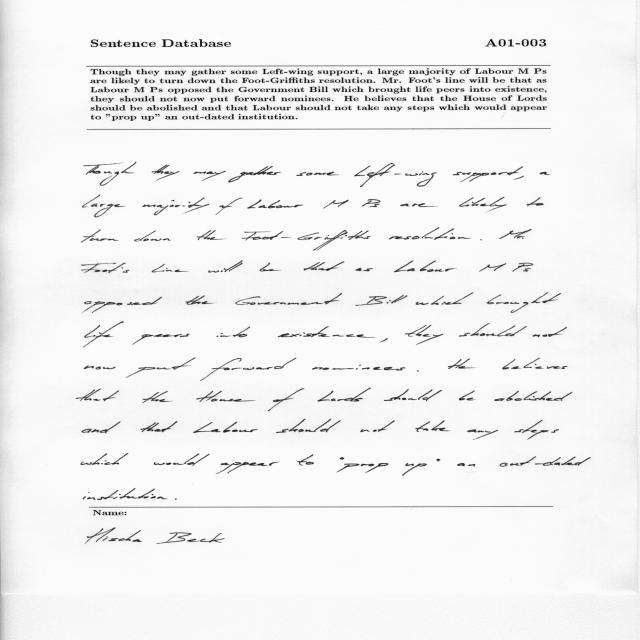word: (242, 230, 371, 251), (200, 358, 296, 381), (354, 163, 437, 187), (486, 292, 561, 313), (457, 456, 591, 467), (126, 358, 196, 378), (236, 293, 342, 305), (84, 162, 136, 186), (84, 297, 162, 313), (143, 198, 210, 216), (278, 326, 376, 338), (453, 166, 523, 182), (389, 227, 471, 240), (84, 322, 124, 348), (83, 488, 167, 500), (82, 195, 125, 218), (459, 323, 527, 337), (276, 419, 341, 433), (228, 166, 281, 183), (514, 420, 559, 440), (268, 388, 304, 411), (405, 325, 444, 345), (494, 391, 572, 401), (193, 421, 258, 433), (216, 462, 279, 474), (394, 261, 456, 273), (154, 453, 210, 466), (502, 358, 568, 369), (459, 197, 507, 212), (317, 388, 371, 401), (416, 293, 474, 305), (384, 389, 442, 401), (196, 391, 255, 402), (403, 459, 441, 476), (132, 334, 190, 345), (323, 199, 381, 209), (356, 295, 408, 306), (81, 453, 128, 465), (76, 389, 119, 402), (312, 365, 405, 371), (247, 200, 304, 209), (81, 230, 119, 243), (81, 263, 130, 273), (479, 263, 533, 272), (152, 164, 180, 181), (82, 422, 121, 434), (216, 198, 243, 215), (208, 260, 243, 273), (360, 420, 395, 432), (415, 420, 450, 432), (304, 261, 345, 271), (134, 231, 171, 242), (141, 421, 178, 432), (217, 327, 251, 338), (532, 327, 567, 337), (143, 391, 172, 403), (468, 429, 499, 440), (194, 171, 227, 181), (500, 229, 532, 239), (151, 264, 188, 272), (448, 358, 474, 369), (197, 230, 225, 240), (186, 296, 214, 305), (365, 463, 389, 473), (337, 464, 360, 473), (297, 454, 314, 466), (260, 263, 281, 272), (296, 172, 339, 176), (527, 197, 544, 207), (459, 391, 475, 401), (400, 203, 434, 207), (85, 366, 116, 370), (355, 268, 373, 271), (514, 176, 524, 180), (380, 338, 388, 343), (540, 172, 551, 175), (361, 464, 374, 466), (340, 457, 344, 460), (417, 370, 419, 372), (175, 498, 177, 500), (480, 239, 482, 240)
